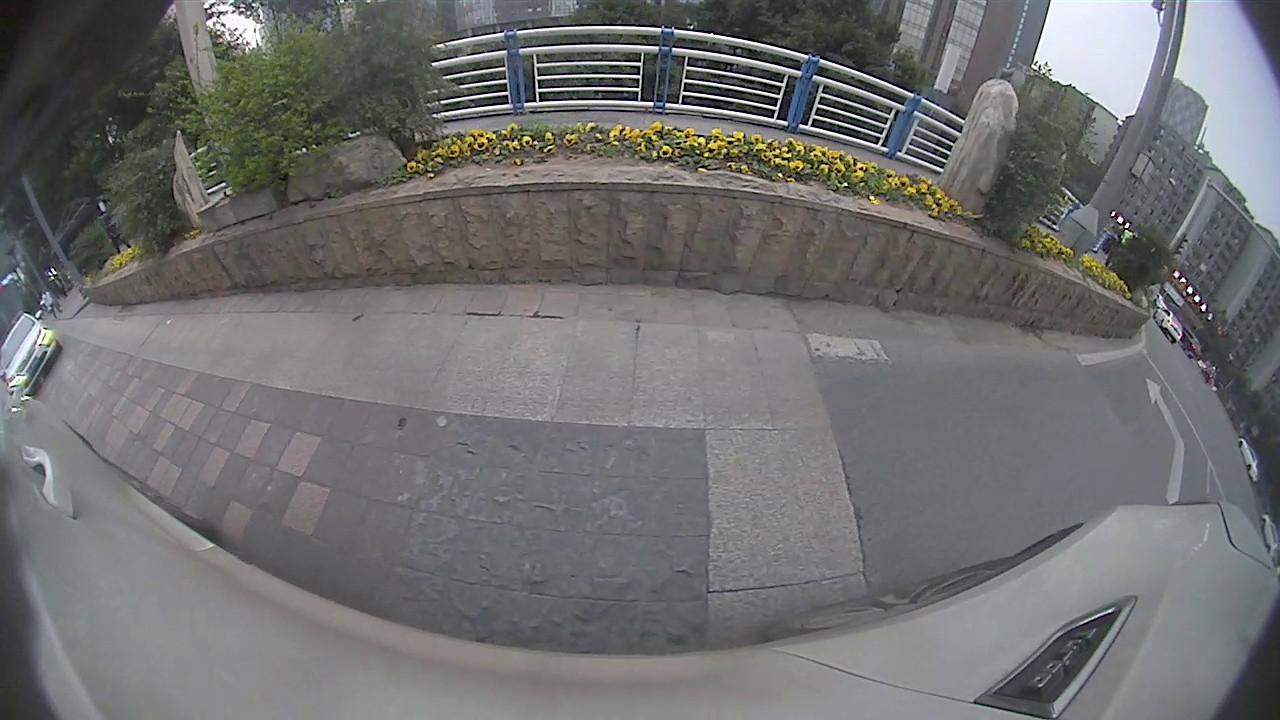car: (3, 310, 61, 397)
